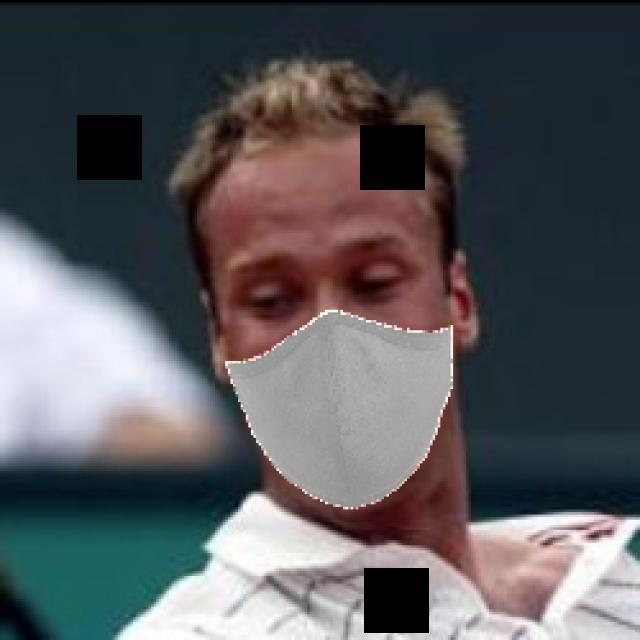cloth: (206, 149, 457, 517)
